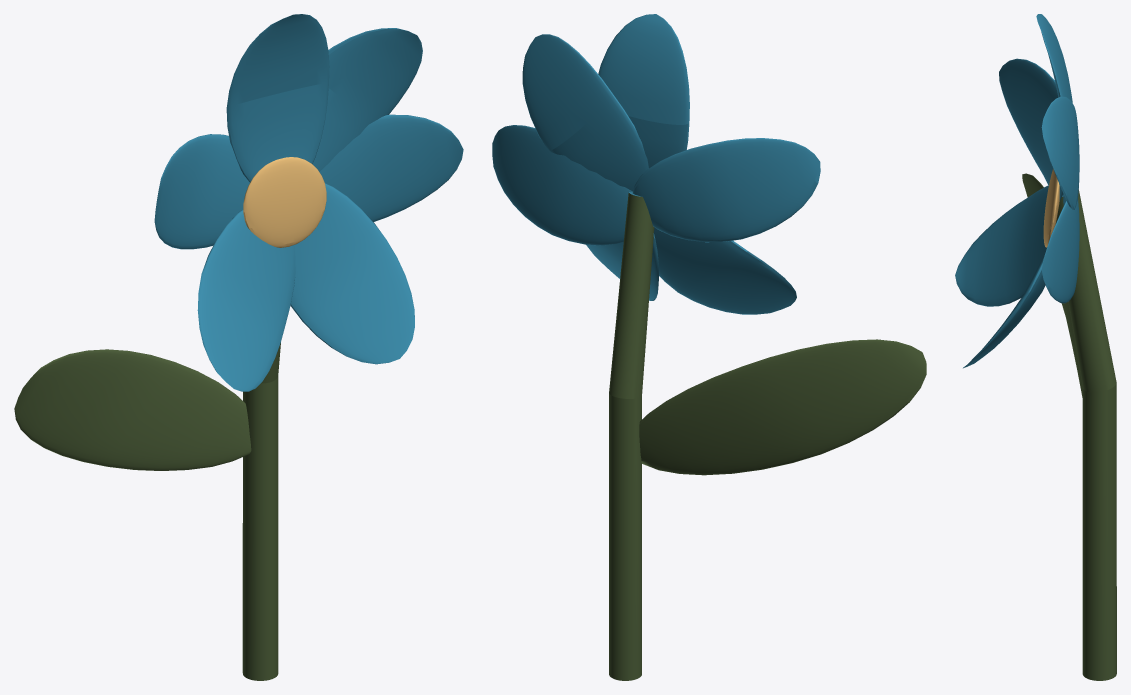
The model's file is flower3.fbx.
3 renders of one model, left to right at view 1: azimuth 30°, elevation 25°; view 2: azimuth 150°, elevation 25°; view 3: azimuth 270°, elevation 25°, orthographic. The views are drawn at different scales.
Visible parts, largest first — view 1: Cylinder; view 2: Cylinder; view 3: Cylinder.
Part boxes in pixels (left/top/right/bottom): Cylinder: left=14, top=14, right=463, bottom=680; Cylinder: left=492, top=14, right=926, bottom=680; Cylinder: left=955, top=14, right=1116, bottom=680.
Bounding box in the file's own units: 130 × 408 × 582.
